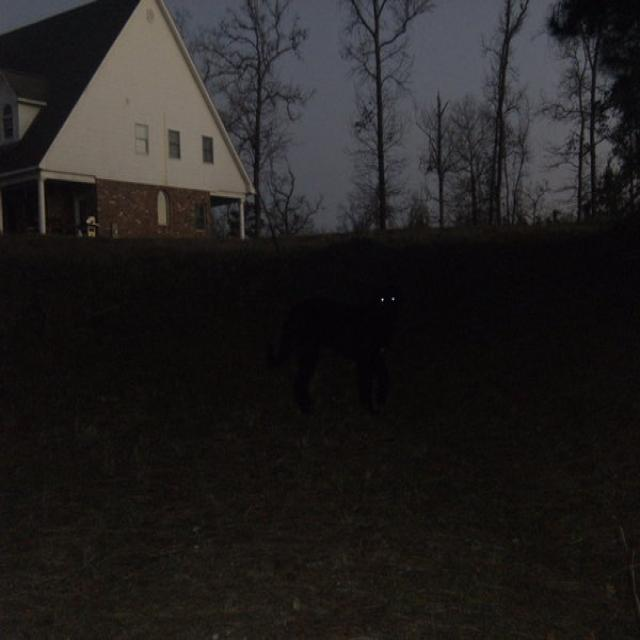dog: (333, 251, 415, 413)
